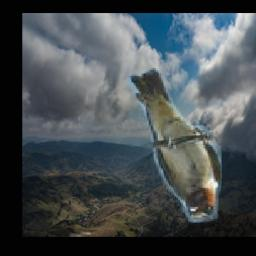Swallow: (124, 69, 222, 224)
